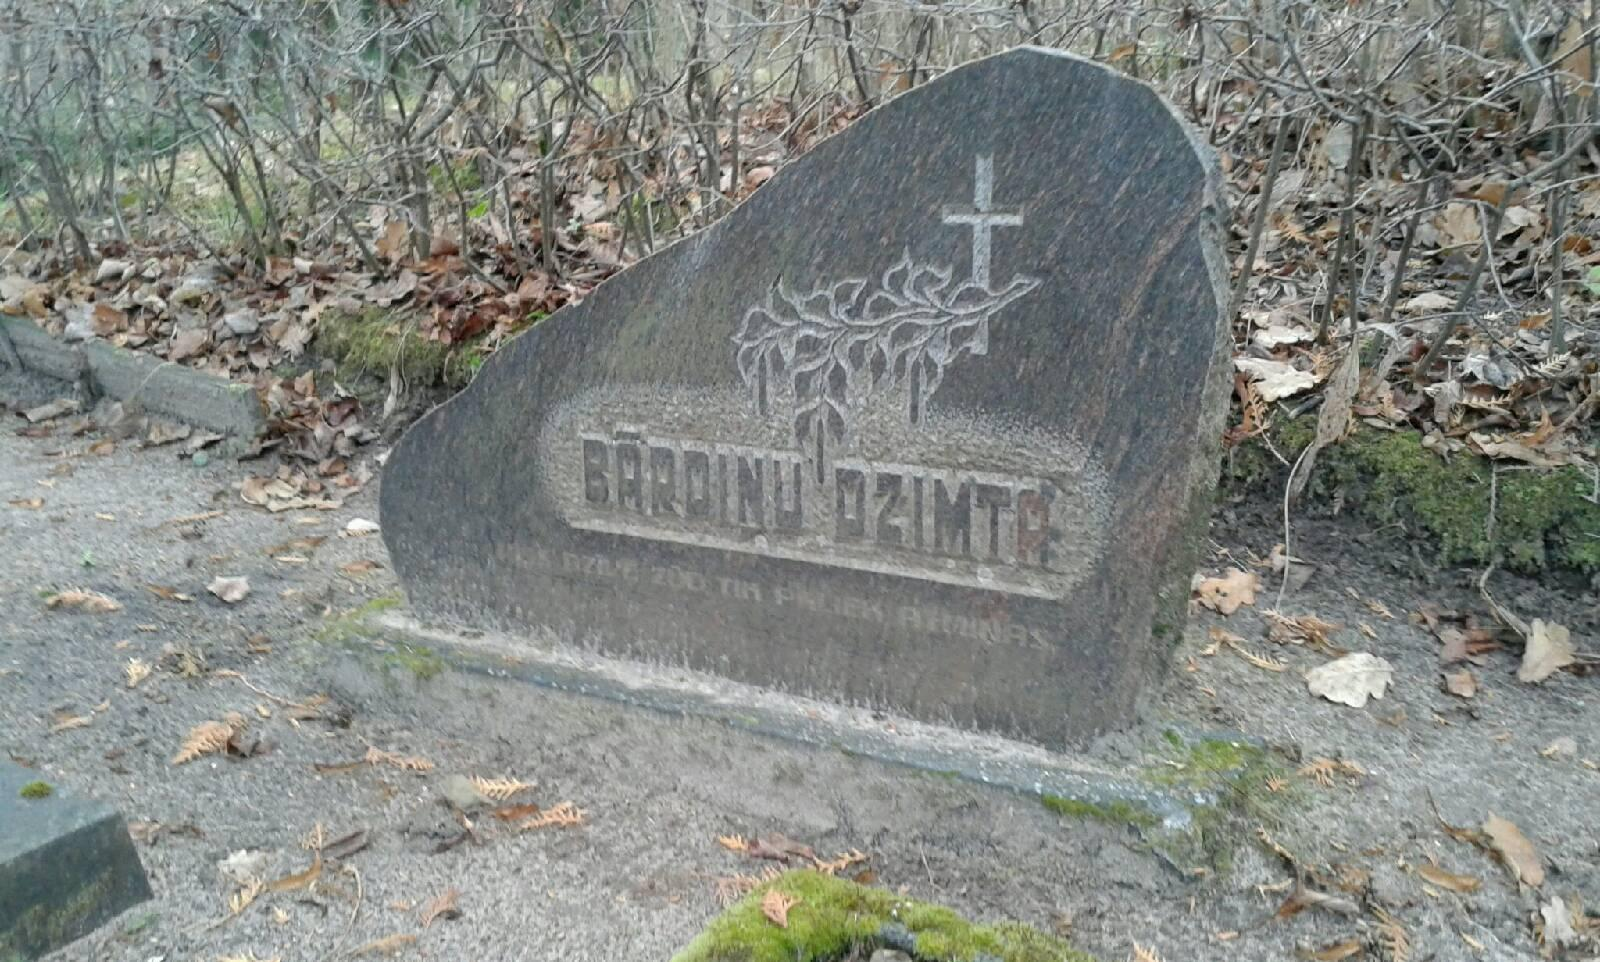upright: (370, 47, 1241, 813)
